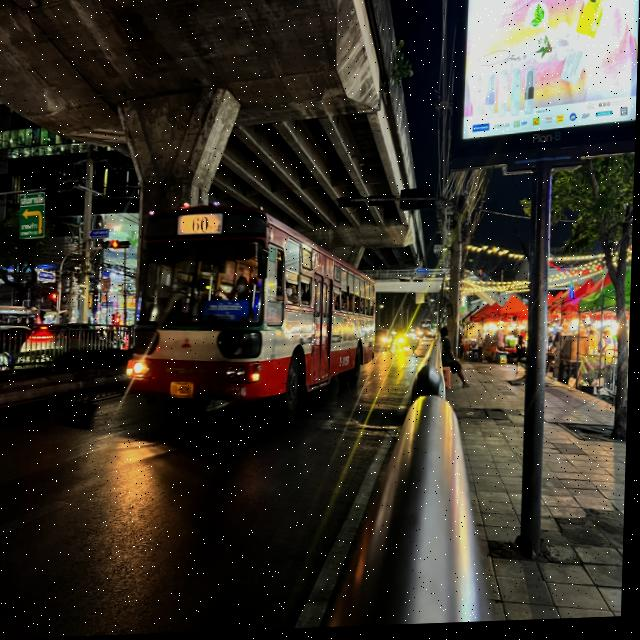BMTA-bus: (119, 206, 379, 441)
Bus Line Number: (178, 215, 226, 236)
Bus Side Number: (214, 384, 251, 401)
Destination Sign: (204, 302, 252, 327)
